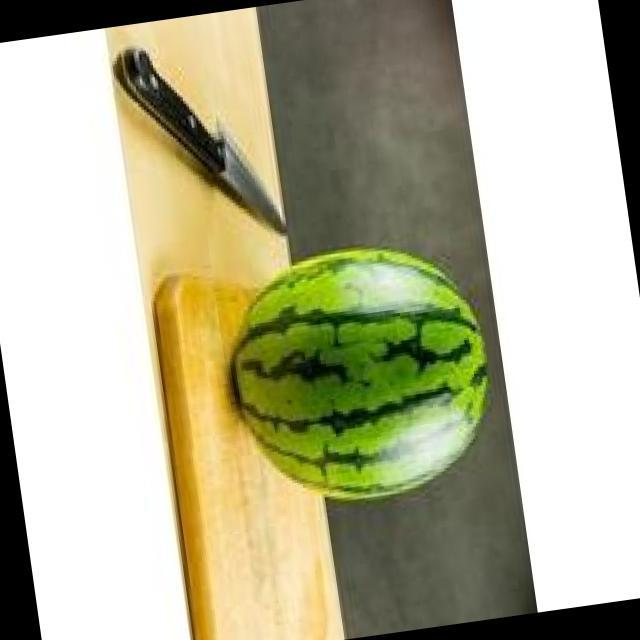watermelon: (231, 249, 488, 499)
